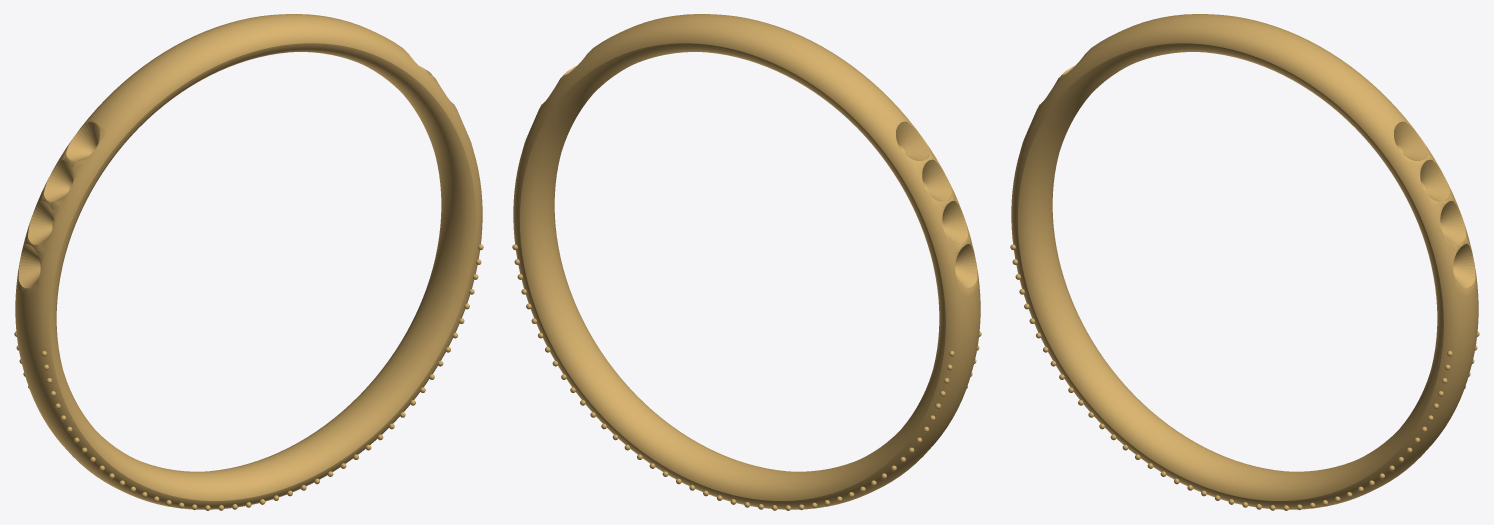
The model's file is vintage-shared-prong-head.glb.
3 renders of one model, left to right at view 1: azimuth 30°, elevation 25°; view 2: azimuth 150°, elevation 25°; view 3: azimuth 330°, elevation 25°, orthographic.
Visible parts, largest first — view 1: Band; view 2: Band; view 3: Band.
Boxes of the visible parts, <box> form: Band: <box>15,14,482,509</box>; Band: <box>513,14,980,509</box>; Band: <box>1011,14,1478,509</box>.
Bounding box in the file's own units: 19.6 × 19.6 × 2.22.
